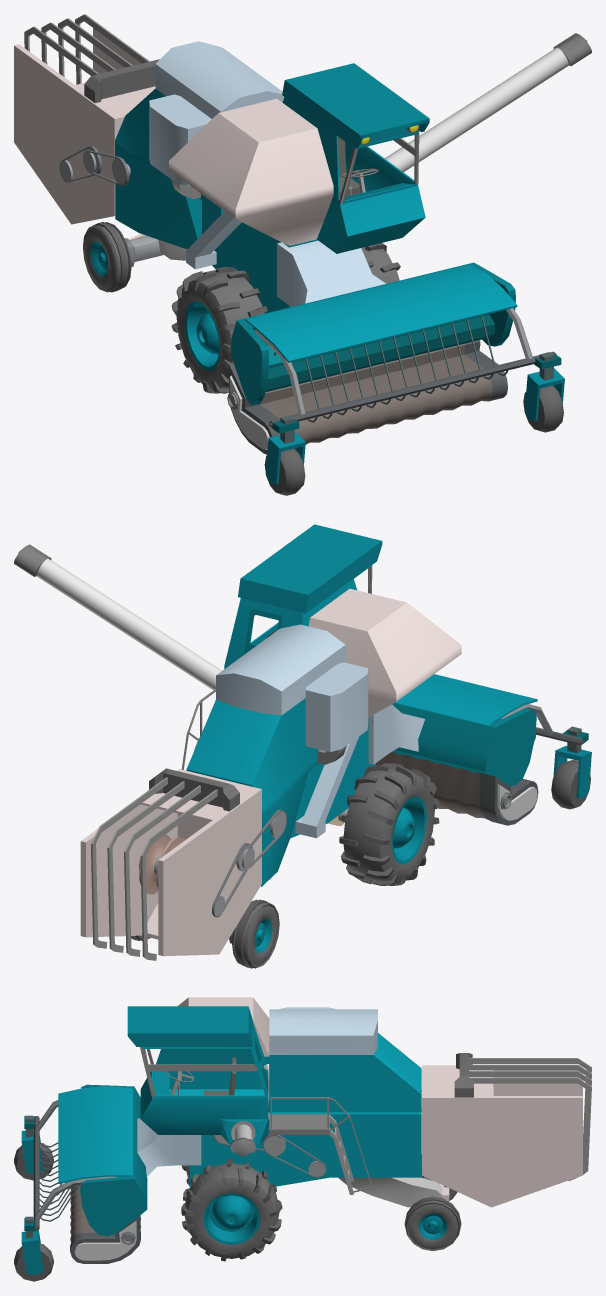
File: SeedDrill.gltf
3 renders of one model, top to bottom at view 1: azimuth 30°, elevation 25°; view 2: azimuth 150°, elevation 25°; view 3: azimuth 270°, elevation 25°, orthographic. The views are drawn at different scales.
Parts seen in each view (by area): view 1: body, wheel_51, wheel_50, wheel_45, wheel_7, wheel_8, wheel_48, wheel_35, wheel_2; view 2: body, wheel_50, wheel_51, wheel_45, wheel_7, wheel_3, wheel_48; view 3: body, wheel_36, wheel_29, wheel_35, wheel_5, wheel_33, wheel_37, wheel_20, wheel_19.
Boxes of the visible parts, x1=… form: body: x1=14, y1=14, x2=591, y2=484; wheel_51: x1=176, y1=280, x2=232, y2=389; wheel_50: x1=192, y1=272, x2=264, y2=388; wheel_45: x1=84, y1=228, x2=115, y2=289; wheel_7: x1=277, y1=448, x2=305, y2=495; wheel_8: x1=537, y1=385, x2=563, y2=432; wheel_48: x1=187, y1=304, x2=218, y2=367; wheel_35: x1=361, y1=247, x2=399, y2=283; wheel_2: x1=464, y1=351, x2=507, y2=401; body: x1=14, y1=524, x2=591, y2=960; wheel_50: x1=343, y1=766, x2=419, y2=883; wheel_51: x1=380, y1=776, x2=434, y2=883; wheel_45: x1=247, y1=905, x2=277, y2=965; wheel_7: x1=551, y1=760, x2=578, y2=809; wheel_3: x1=480, y1=773, x2=533, y2=825; wheel_48: x1=394, y1=799, x2=424, y2=860; body: x1=21, y1=997, x2=591, y2=1274; wheel_36: x1=186, y1=1177, x2=276, y2=1258; wheel_29: x1=407, y1=1203, x2=458, y2=1249; wheel_35: x1=184, y1=1163, x2=279, y2=1232; wheel_5: x1=70, y1=1215, x2=140, y2=1263; wheel_33: x1=206, y1=1208, x2=257, y2=1242; wheel_37: x1=203, y1=1193, x2=260, y2=1244; wheel_20: x1=16, y1=1251, x2=50, y2=1280; wheel_19: x1=16, y1=1151, x2=50, y2=1180.
Size of the model in its own units: 9.76 by 5.88 by 13.7.
1 material, 1 textured.
